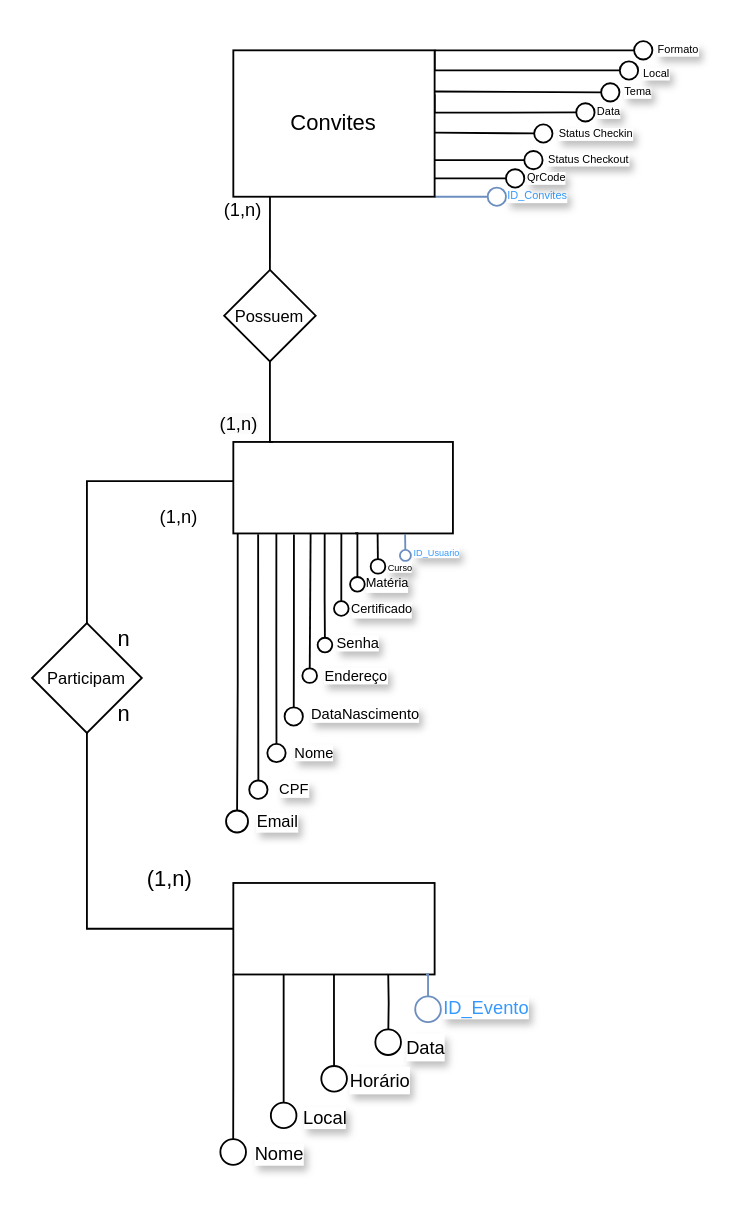
This 756x1213 diagram has some shape labels left out. Each missing label, with the box of its shape:
Eventos: (231, 881, 435, 974)
Usuarios: (231, 440, 453, 533)
